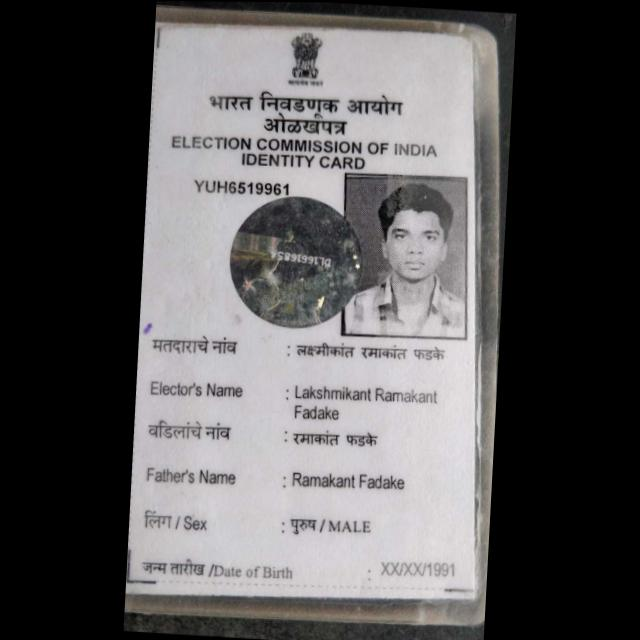voter_id: (126, 8, 509, 620)
